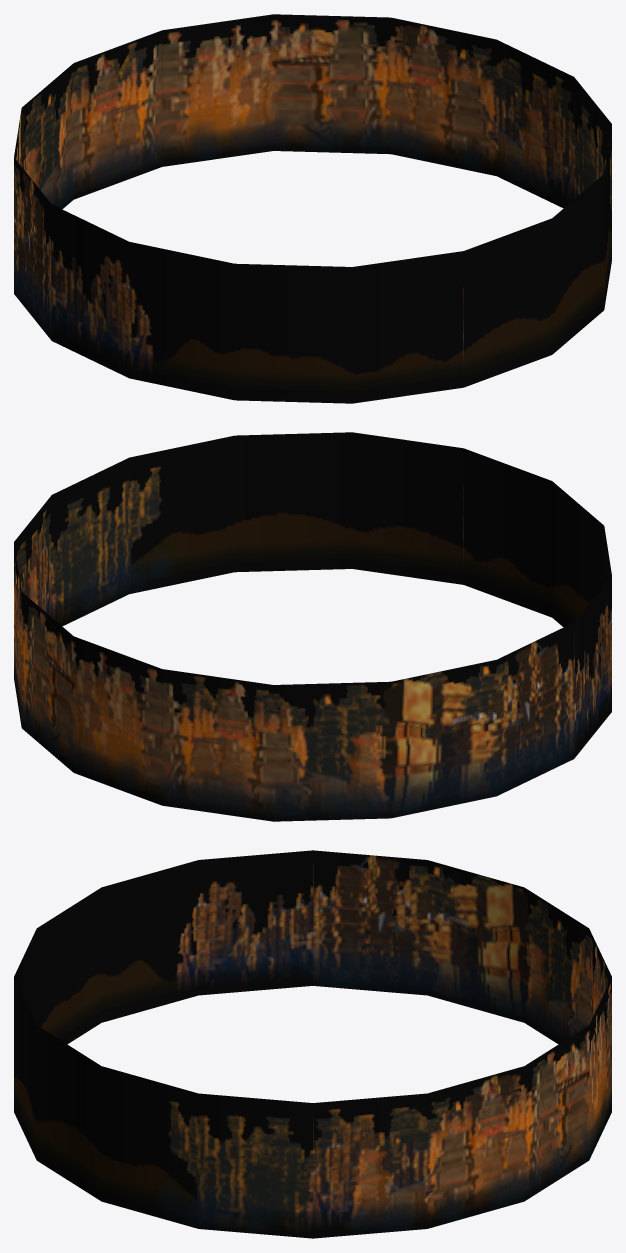
Rendered from Skydome.glb.
3 views of the same model, one above another, from view 1: azimuth 30°, elevation 25°; view 2: azimuth 150°, elevation 25°; view 3: azimuth 270°, elevation 25° (orthographic).
Parts seen in each view (by area): view 1: Cylinder; view 2: Cylinder; view 3: Cylinder.
Boxes of the visible parts, x1,y1,x2,y2 form: Cylinder: [14, 14, 611, 403]; Cylinder: [14, 432, 611, 821]; Cylinder: [14, 850, 611, 1238].
Bounding box in the file's own units: 200 × 50 × 200.
Materials: 1 (1 with a texture image).
